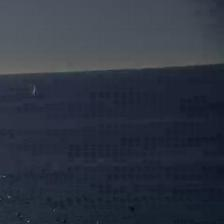surfer: (17, 213, 22, 218), (63, 219, 67, 223), (130, 208, 135, 211)
